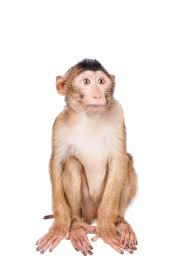monkey: (36, 34, 145, 275)
